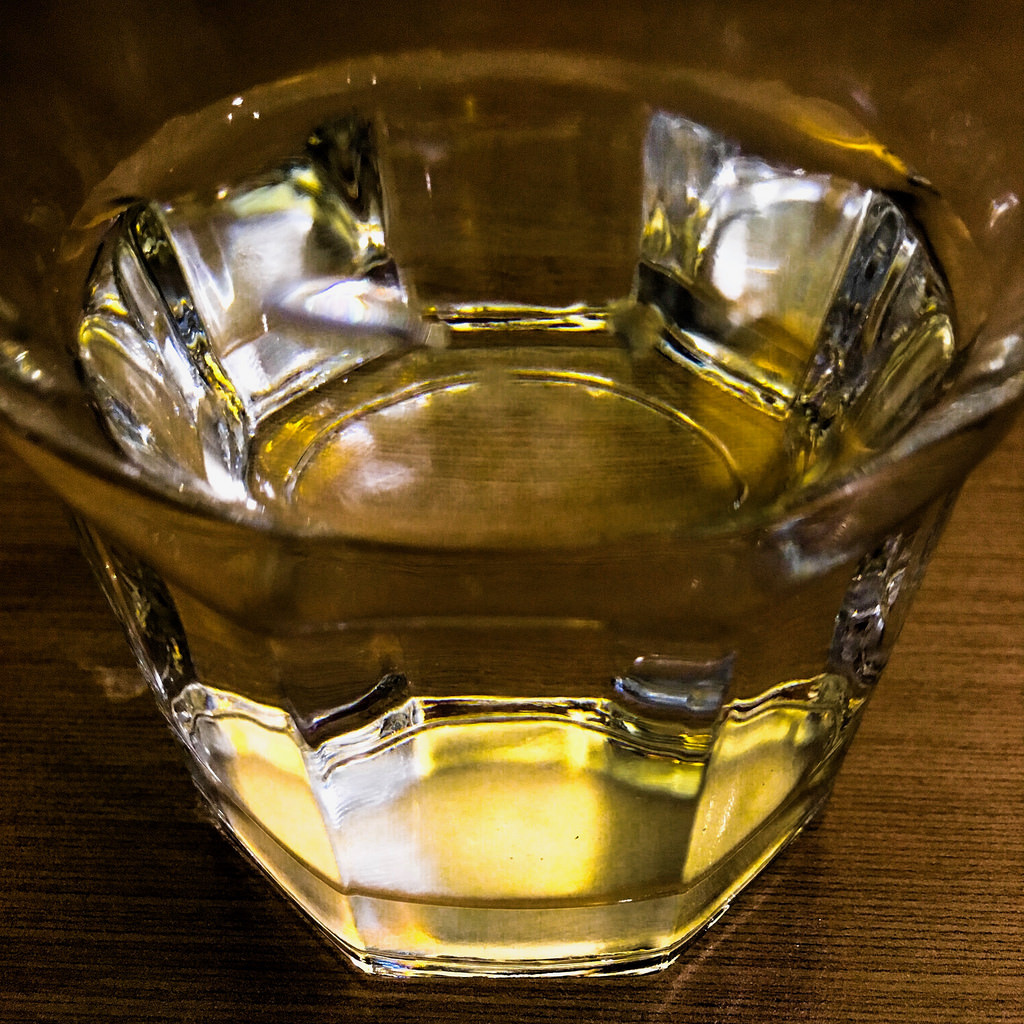glass of water: (20, 71, 998, 979)
